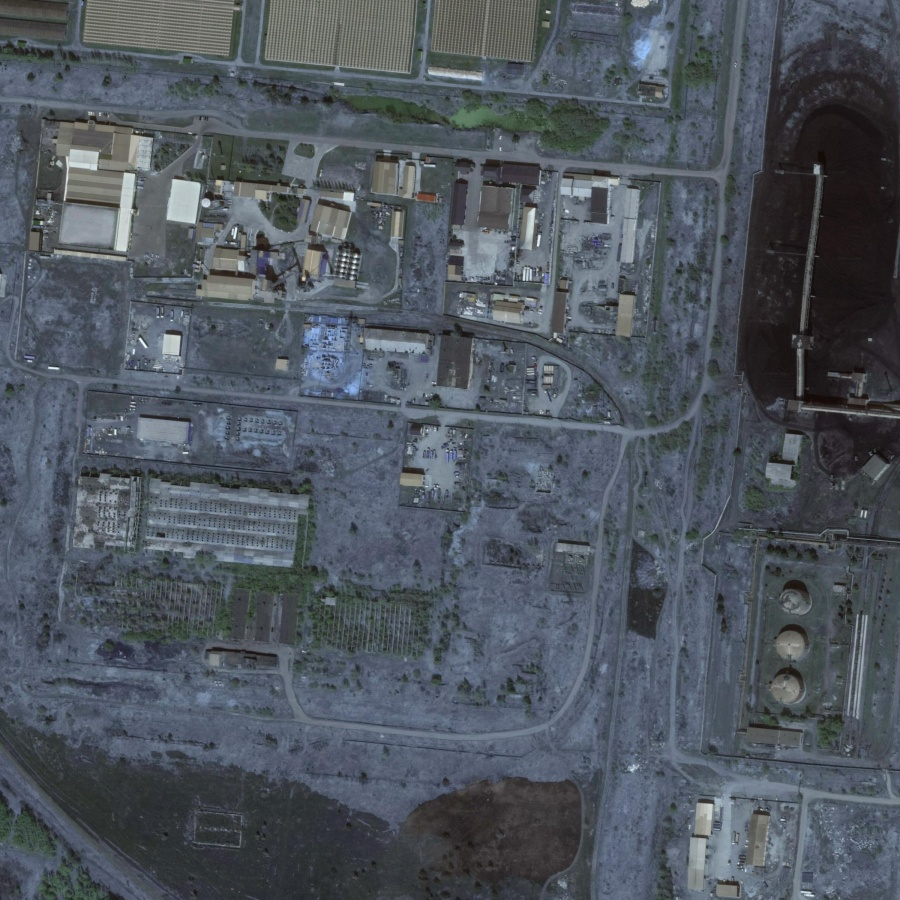PowerPlant: (730, 522, 878, 764)
